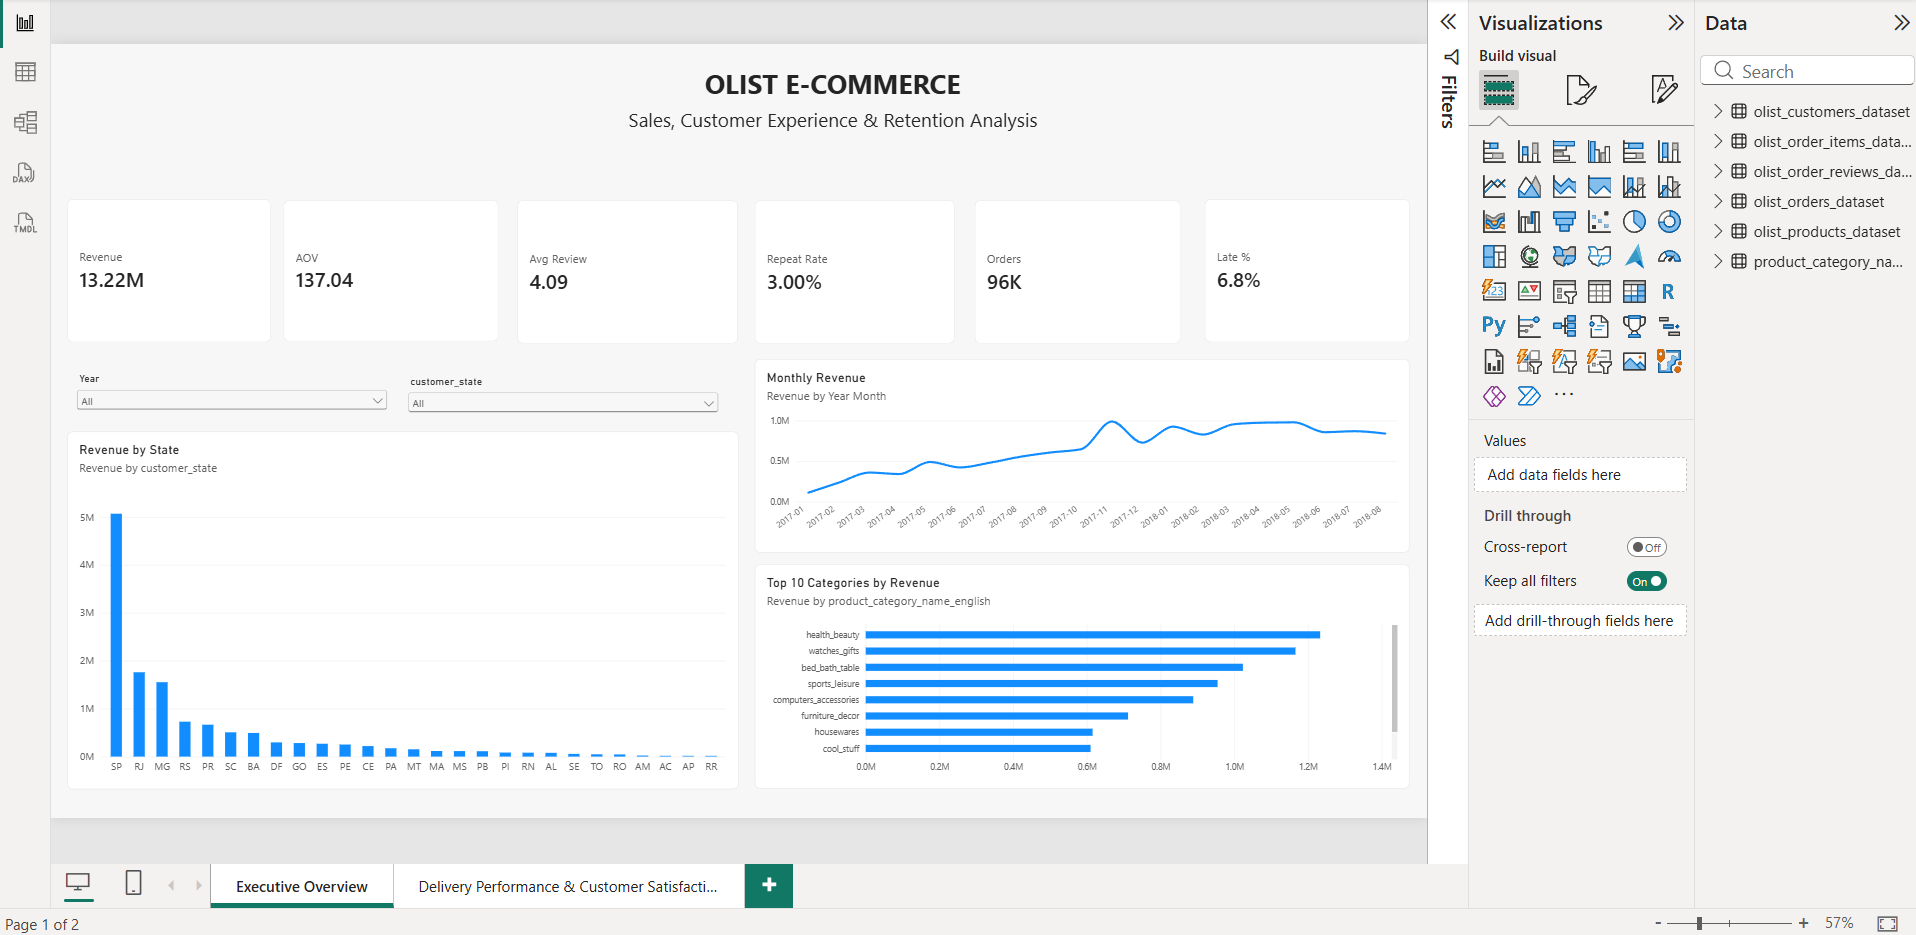

Layout of this report page (visuals, bound fields, positions):
{"tool":"powerbi","page":{"name":"Executive Overview","canvas":[1920,1080],"ordinal":0},"visuals":[{"type":"cardVisual","fields":{"Data":["olist_orders_dataset.Revenue"]},"box":[22.7,216.3,284.3,200.6],"z":0},{"type":"cardVisual","fields":{"Data":["olist_orders_dataset.Orders"]},"box":[1289,218,287.8,200.6],"z":1000},{"type":"cardVisual","fields":{"Data":["olist_orders_dataset.AOV"]},"box":[324.4,218,300,197.1],"z":2000},{"type":"cardVisual","fields":{"Data":["olist_orders_dataset.Avg Review"]},"box":[650.6,218,308.7,200.6],"z":3000},{"type":"cardVisual","fields":{"Data":["olist_orders_dataset.Late %"]},"box":[1609.9,216.3,286,200.6],"z":4000},{"type":"cardVisual","fields":{"Data":["olist_orders_dataset.Repeat Rate"]},"box":[982,218,279.1,200.6],"z":5000},{"type":"lineChart","title":"Monthly Revenue","fields":{"Category":["olist_orders_dataset.Year Month"],"Y":["olist_orders_dataset.Revenue"]},"box":[982,439.5,914,270.3],"z":6000},{"type":"clusteredBarChart","title":"Top 10 Categories by Revenue","fields":{"Category":["olist_products_dataset.product_category_name_english"],"Y":["olist_orders_dataset.Revenue"]},"box":[982,725.6,914,314],"z":6001},{"type":"clusteredColumnChart","title":"Revenue by State","fields":{"Category":["olist_customers_dataset.customer_state"],"Y":["olist_orders_dataset.Revenue"]},"box":[22.7,540.7,936.6,498.8],"z":6002},{"type":"slicer","fields":{"Values":["olist_orders_dataset.Year"]},"box":[31.4,458.7,442.5,81.2],"z":6003},{"type":"slicer","fields":{"Values":["olist_customers_dataset.customer_state"]},"box":[493.6,462.2,442.5,60],"z":6004},{"type":"textbox","box":[912.2,29.7,434.3,57.6],"z":6005},{"type":"textbox","box":[805.8,87.2,627.9,54.1],"z":6006}]}

Visuals, with their boxes on the page's 1920x1080 design canvas (x1, y1, x2, y2). These are canvas units, not pixel positions in the 1916x935 screenshot, which may show the page scaled, cropped or inside an application window:
cardVisual - olist_orders_dataset.Revenue: x1=23 y1=216 x2=307 y2=417
cardVisual - olist_orders_dataset.Orders: x1=1289 y1=218 x2=1577 y2=419
cardVisual - olist_orders_dataset.AOV: x1=324 y1=218 x2=624 y2=415
cardVisual - olist_orders_dataset.Avg Review: x1=651 y1=218 x2=959 y2=419
cardVisual - olist_orders_dataset.Late %: x1=1610 y1=216 x2=1896 y2=417
cardVisual - olist_orders_dataset.Repeat Rate: x1=982 y1=218 x2=1261 y2=419
"Monthly Revenue" lineChart: x1=982 y1=440 x2=1896 y2=710
"Top 10 Categories by Revenue" clusteredBarChart: x1=982 y1=726 x2=1896 y2=1040
"Revenue by State" clusteredColumnChart: x1=23 y1=541 x2=959 y2=1040
slicer - olist_orders_dataset.Year: x1=31 y1=459 x2=474 y2=540
slicer - olist_customers_dataset.customer_state: x1=494 y1=462 x2=936 y2=522
textbox: x1=912 y1=30 x2=1346 y2=87
textbox: x1=806 y1=87 x2=1434 y2=141
